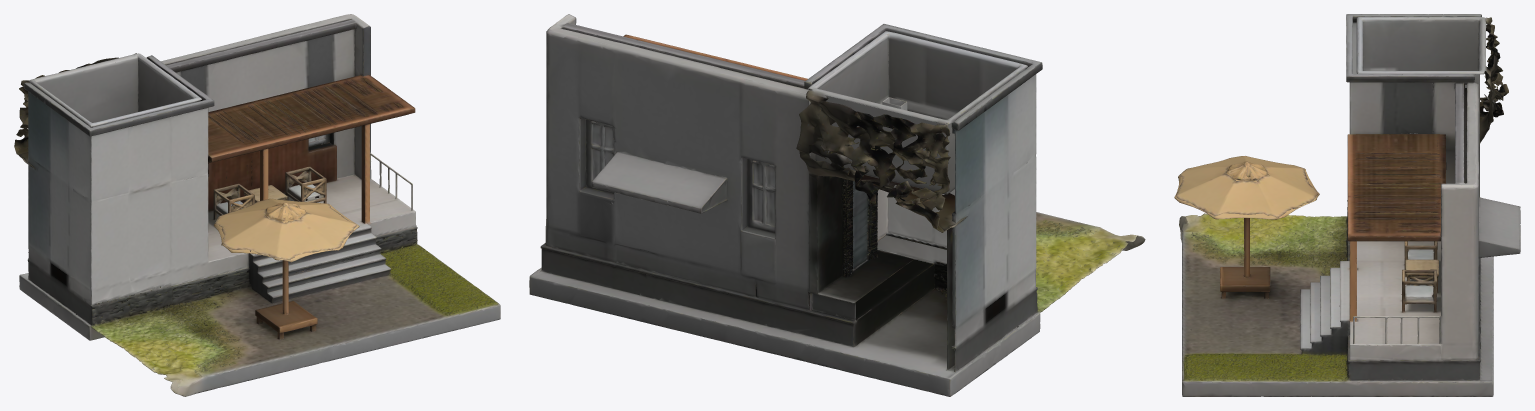
The model's file is abbassia-mental-health-hospital-2.glb.
The picture shows the model from 3 angles, left to right: view 1: azimuth 30°, elevation 25°; view 2: azimuth 150°, elevation 25°; view 3: azimuth 270°, elevation 25°; orthographic projection. The views are drawn at different scales.
Bounding box in the file's own units: 1 × 0.6108 × 0.8806.
Materials: 1 (1 with a texture image).
